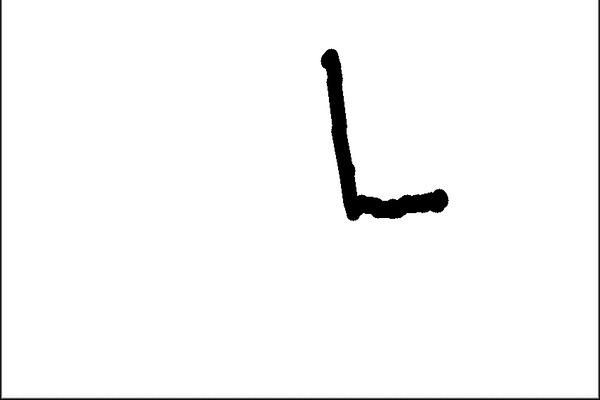L: (312, 40, 452, 226)
